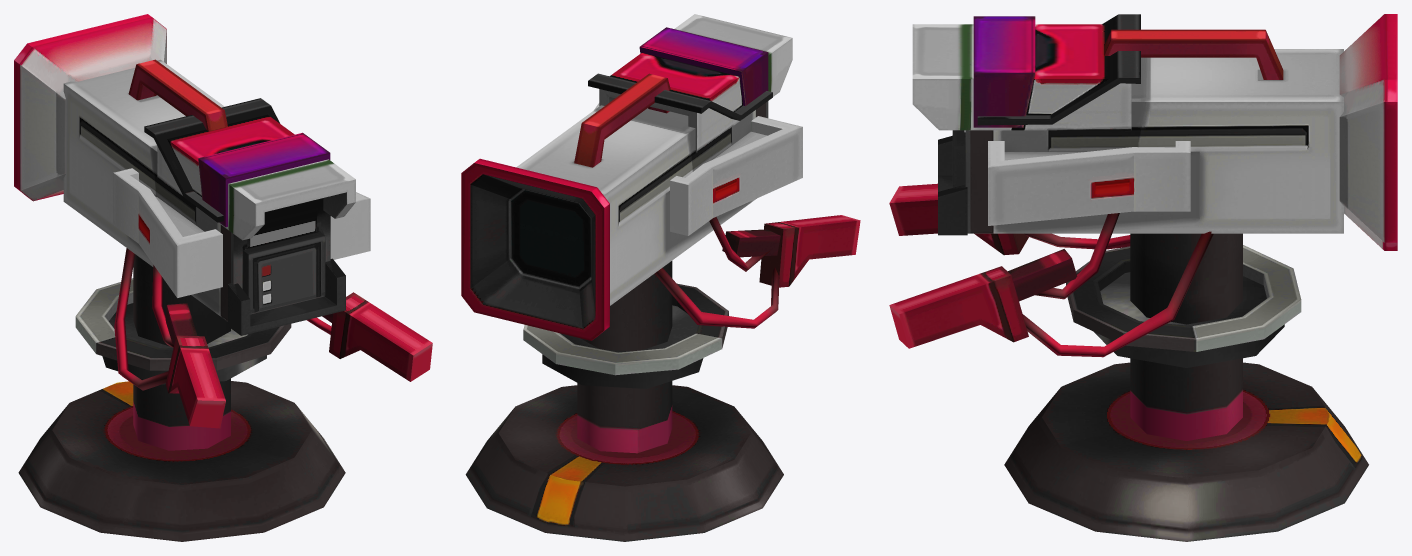
The model's file is trap_247_crfilm.fbx.
3 renders of one model, left to right at view 1: azimuth 30°, elevation 25°; view 2: azimuth 150°, elevation 25°; view 3: azimuth 270°, elevation 25°, orthographic. The views are drawn at different scales.
Parts seen in each view (by area): view 1: part2, polySurface21, polySurface8, polySurface7, polySurface23, polySurface9, polySurface17, polySurface19, polySurface27, polySurface20, polySurface30, polySurface29 (+5 smaller); view 2: part2, polySurface8, polySurface21, polySurface23, polySurface7, polySurface27, polySurface19, polySurface30, polySurface29, polySurface26, polySurface28, polySurface25; view 3: part2, polySurface21, polySurface7, polySurface13, polySurface8, polySurface17, polySurface19, polySurface30, polySurface27, polySurface16, polySurface29, polySurface20 (+4 smaller).
Boxes of the visible parts, x1,y1,x2,y2 form: part2: [18, 254, 345, 541]; polySurface21: [63, 59, 330, 321]; polySurface8: [14, 14, 166, 201]; polySurface7: [157, 114, 355, 240]; polySurface23: [113, 168, 222, 297]; polySurface9: [243, 232, 325, 313]; polySurface17: [329, 292, 432, 381]; polySurface19: [198, 132, 330, 226]; polySurface27: [165, 335, 225, 428]; polySurface20: [228, 258, 345, 335]; polySurface30: [128, 59, 227, 131]; polySurface29: [144, 98, 279, 222]; part2: [465, 261, 783, 541]; polySurface8: [461, 158, 609, 340]; polySurface21: [516, 101, 768, 305]; polySurface23: [670, 116, 802, 235]; polySurface7: [599, 14, 792, 152]; polySurface27: [759, 215, 860, 287]; polySurface19: [639, 27, 768, 105]; polySurface30: [574, 73, 670, 167]; polySurface29: [588, 73, 772, 120]; polySurface26: [654, 267, 779, 328]; polySurface28: [722, 229, 780, 257]; polySurface25: [709, 217, 770, 271]; part2: [1004, 233, 1368, 541]; polySurface21: [965, 49, 1343, 233]; polySurface7: [912, 24, 1131, 130]; polySurface13: [988, 141, 1190, 225]; polySurface8: [1339, 14, 1397, 250]; polySurface17: [889, 266, 1028, 348]; polySurface19: [973, 16, 1035, 127]; polySurface30: [1104, 29, 1283, 79]; polySurface27: [889, 183, 1028, 255]; polySurface16: [1022, 231, 1213, 357]; polySurface29: [977, 14, 1140, 125]; polySurface20: [938, 132, 967, 235].
Size of the model in its own units: 0.6625 by 0.86 by 0.9225.
Materials: 1 (1 with a texture image).
